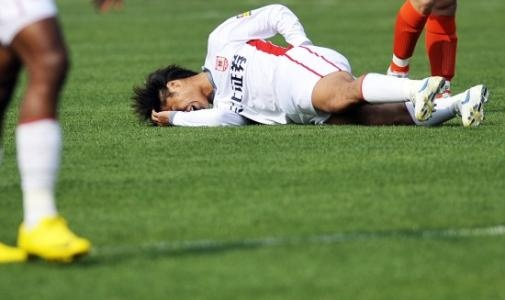falling: (138, 4, 482, 131)
